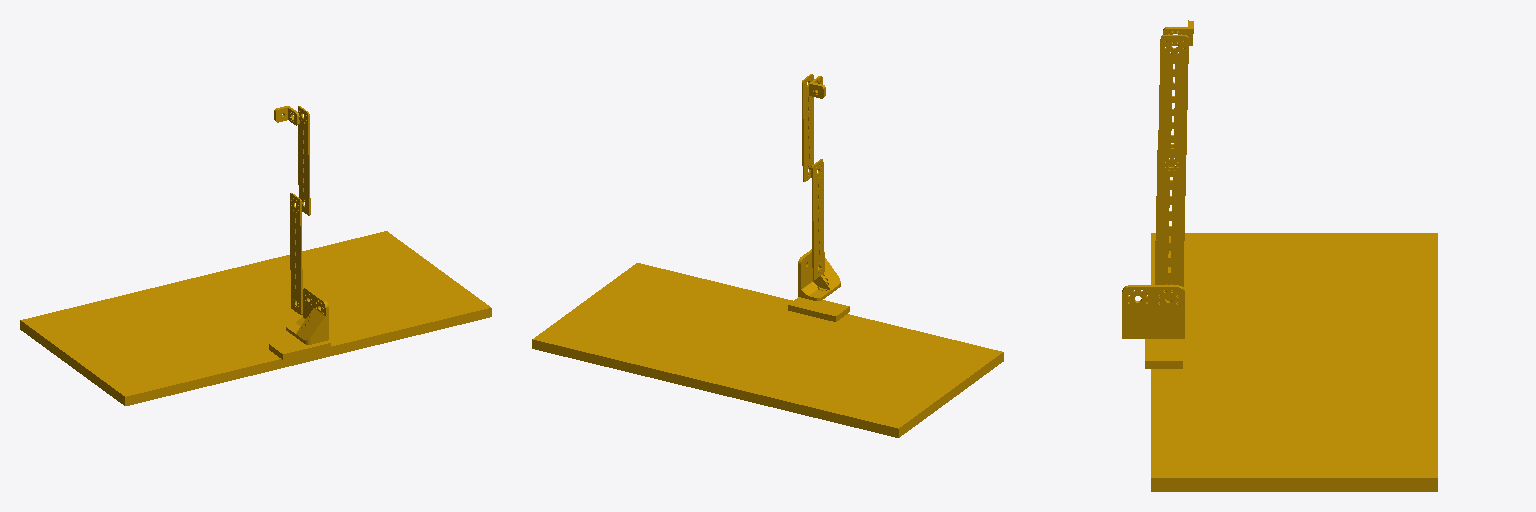
robot.urdf — fourdof:
<?xml version="1.0"?>

<robot name="fourdof">

  <!-- ******************************************************** -->
  <!-- ******************* Kinematic Chain ******************** -->
  <!-- ******************************************************** -->
  <!-- Note the 'origin' tag in the joints defines the shift and
       reorientation, i.e. the transform.  For moving joints, this
       happens before the continuous joint rotates around 'axis'. -->

  <!-- World can't take a visual element (at least in Gazebo). -->
  <link name="world"/>

  <joint name="tableplacement" type="fixed">
    <parent link="world"/>
    <child  link="table"/>
    <origin xyz="0 0 0" rpy="0 0 0"/>
  </joint>

  <link name="table">
    <visual>
      <origin xyz="0.0 0.0 0.0" rpy="-1.5708 0 0"/>
      <geometry>
        <mesh filename="package://snakes_and_ladders/meshes/Table.STL"
	      scale="0.001 0.001 0.001"/>
      </geometry>
      <material name="wood"/>
    </visual>
  </link>

  <joint name="placement" type="fixed">
    <parent link="table"/>
    <child  link="baseplate"/>
    <origin xyz="0.748 0.01 0.0" rpy="0 0 0"/>			<!-- WHERE IS THE BASE .748 -->
  </joint>

  <!-- BASE PLATE: Shift across the base plate to the base motor. --> 
  <link name="baseplate">
    <visual>
      <origin xyz="0.0 0.025 0.0125" rpy="0 0 0"/>
      <geometry>
	<box size="0.2 0.1 0.0230"/>
      </geometry>
      <material name="wood"/>
    </visual>
  </link>

  <joint name="baseplate" type="fixed">
    <parent link="baseplate"/>
    <child  link="basemotor"/>
    <origin xyz="0 0 0.0230" rpy="0 0 0"/>
  </joint>

  <!-- BASE MOTOR: Thickness: X5 = 31.1mm, X8 = 45.1mm -->
  <link name="basemotor">
    <visual>
      <origin xyz="0.0 0.0 0.0" rpy="0 0 -1.5708"/>
      <geometry>
        <mesh filename="package://snakes_and_ladders/meshes/X8.stl"
	      scale="0.001 0.001 0.001"/>
      </geometry>
      <material name="hebi"/>
    </visual>
  </link>

  <joint name="base" type="continuous">
    <parent link="basemotor"/>
    <child  link="lbracket"/>
    <origin xyz="0 0 0.0451" rpy="0 0 -1.5708"/>  <!--0.035, 0.03321-->
    <axis   xyz="0 0 1"/>
  </joint>

  <!-- L BRACKET: Shift and rotate across the L bracket. -->
  <link name="lbracket">
    <visual>
      <origin xyz = ".085 .0550 0" rpy="1.5708 0 -1.5708"/>
      <geometry>
        <mesh filename="package://snakes_and_ladders/meshes/lower_bracket_improved_1005.STL"
        scale = "0.001 0.001 0.001"/>
      </geometry>
      <material name = "wood"/>
    </visual>
  </link>

  <joint name="lbracket" type="fixed">
    <parent link="lbracket"/>
    <child  link="shouldermotor"/>
    <origin xyz="-0.038 0.02 0.113" rpy="0 -1.5708 1.5708"/>	  <!-- L BRACKET DIMENIONS -1.5708 0.0445 -0.017 0.1025 -->
  </joint>

  <!-- SHOULDER MOTOR: Thickness: X5 = 31.1mm, X8 = 45.1mm -0.0065 -->
  <link name="shouldermotor">
    <visual>
      <origin xyz="0 0 -0.02250" rpy="0 0 0"/>
      <geometry>
        <mesh filename="package://snakes_and_ladders/meshes/X8.stl"
	      scale="0.001 0.001 0.001"/>
      </geometry>
      <material name="hebi"/>
    </visual>
  </link>

  <joint name="shoulder" type="continuous">
    <parent link="shouldermotor"/>
    <child  link="upperarm"/>
    <origin xyz="0 0 0.03225" rpy="-3.14159 0 0.02"/>
    <axis   xyz="0 0 -1"/>
  </joint>

  <!-- UPPER ARM: Shift across the upper arm (1/4in thickness) -->
  <link name="upperarm">
    <visual>
      <origin xyz="-0.034767 0.037869 0.00285" rpy="1.5708 0 0"/>  <!-- 0.25 0 0.00285 -->
      <geometry>
	      <mesh filename="package://snakes_and_ladders/meshes/Upperarm_improved.STL"
            scale="0.001 0.001 0.001"/>
      </geometry>
      <material name="wood"/>
    </visual>
    <!-- Add a visual element -->
  </link>

  <joint name="upperarm" type="fixed">
    <parent link="upperarm"/>
    <child  link="elbowmotor"/>
    <origin xyz="0.3850 -0.0025 0.0251" rpy="0 0 0"/>		  <!-- "0.3850 -0.0025 0.0057"-->
  </joint>

  <!-- Elbow motor.  Thickness: X5 = 31.1mm, X8 = 45.1mm -->
  <link name="elbowmotor">
    <visual>
      <origin xyz="-0.002 0.002 -0.0161" rpy="0 0 0"/>
      <geometry>
        <mesh filename="package://snakes_and_ladders/meshes/X5.stl"
	      scale="0.001 0.001 0.001"/>
      </geometry>
      <material name="hebi"/>
    </visual>
  </link>

  <joint name="elbow" type="continuous">
    <parent link="elbowmotor"/>
    <child  link="lowerarm"/>
    <origin xyz="0 0 0.01655" rpy="0 0 0"/>
    <axis   xyz="0 0 1"/>
  </joint>

  <!-- Shift across the upper arm (1/4in thickness) -->
  <link name="lowerarm">
    <visual>
      <origin xyz="-0.036768 0.039268 -0.00175" rpy="1.5708 0 0"/>
      <geometry>
        <mesh filename="package://snakes_and_ladders/meshes/lowerarm_improved.STL"
            scale="0.001 0.001 0.001"/>
      </geometry>
      <material name="wood"/>
    </visual>
  </link>

  <joint name="wrist_rot" type="fixed">
    <parent link="lowerarm"/>
    <child  link="wristmotor"/>
    <origin xyz="0.350 0  -0.01655" rpy="0 0 -3.14"/>		  <!-- LOWER ARM DIMENIONS 0.00285 -->
  </joint>

  <!-- Wrist motor.  Thickness: X5 = 31.1mm, X8 = 45.1mm -->
  <link name="wristmotor">
    <visual>
      <origin xyz="0.002 -0.002 0.01455" rpy="-3.14 0 0"/>
      <geometry>
        <mesh filename="package://snakes_and_ladders/meshes/X5.stl"
	      scale="0.001 0.001 0.001"/>
      </geometry>
      <material name="hebi"/>
    </visual>
  </link>

  <joint name="wrist" type="continuous">
    <parent link="wristmotor"/>
    <child  link="lowerbracket"/>
    <origin xyz="0 0 -0.0321" rpy="3.14 1.5708 0"/>
    <axis   xyz="1 0 0"/>
  </joint>

  <!-- Lower L Bracket -->
  <link name="lowerbracket">
    <visual>
      <origin xyz="-0.015 -0.0475 -0.025" rpy="0 0 0"/>
      <geometry>
        <mesh filename="package://snakes_and_ladders/meshes/l_bracket_gripper.STL"
            scale="0.001 0.001 0.001"/>
      </geometry>
      <material name="wood"/>
    </visual>
  </link>

  <joint name="gripper" type="fixed">
    <parent link="lowerbracket"/>
    <child  link="gripper"/>
    <origin xyz="-0.0075 -0.0175 -0.055" rpy="-1.5708 -1.5708 -1.5708"/>		 
  </joint>


  <link name="gripper">
    <visual>
      <origin xyz="0.033 0.01 0.077" rpy="0 1.5708 0"/>
      <geometry>
        <mesh filename="package://snakes_and_ladders/meshes/Gripper_Part.STL"
            scale="0.001 0.001 0.001"/>
      </geometry>
      <material name="wood"/>
    </visual>
  </link>

  <joint name="revolve" type="fixed">
    <parent link="gripper"/>
    <child  link="tip"/>
    <origin xyz="0.05 0.15 0.025" rpy="0 0 0"/>		 
  </joint>
  
  <!-- TIP FRAME -->
  <link name="tip"/>

  <!-- *************************************************** -->
  <!-- *************** Visual Link Elements ************** -->
  <!-- *************************************************** -->
  <!-- Note collada .dae files have better color/texture   -->
  <!-- suppport that STL files.                            -->

  <!-- Colors -->
  <material name="wood">  <color rgba="0.82 0.62 0.04 1"/>  </material>
  <material name="hebi">  <color rgba="0.82 0.06 0.06 1"/>  </material>

</robot>

--- Facts derived from the render (not from the file) ---
The picture shows the robot from 3 angles, left to right: view 1: azimuth 30°, elevation 25°; view 2: azimuth 150°, elevation 25°; view 3: azimuth 270°, elevation 25°; orthographic projection.
Robot: fourdof — 13 links, 12 joints (4 continuous, 8 fixed); root link world; default pose: every joint at zero.
Links seen in each view (by area): view 1: table, lbracket, upperarm, lowerarm, baseplate; view 2: table, upperarm, lbracket, lowerarm, baseplate; view 3: table, lowerarm, lbracket, upperarm, baseplate.
Link boxes in pixels (x1=…): table: x1=20, y1=231, x2=491, y2=405; lbracket: x1=286, y1=288, x2=328, y2=344; upperarm: x1=290, y1=193, x2=302, y2=314; lowerarm: x1=298, y1=106, x2=310, y2=215; baseplate: x1=269, y1=338, x2=330, y2=359; table: x1=532, y1=263, x2=1003, y2=437; upperarm: x1=811, y1=159, x2=824, y2=279; lbracket: x1=798, y1=249, x2=840, y2=300; lowerarm: x1=802, y1=74, x2=813, y2=181; baseplate: x1=788, y1=297, x2=849, y2=321; table: x1=1151, y1=233, x2=1437, y2=491; lowerarm: x1=1158, y1=35, x2=1188, y2=176; lbracket: x1=1122, y1=285, x2=1184, y2=338; upperarm: x1=1155, y1=144, x2=1185, y2=301; baseplate: x1=1145, y1=339, x2=1182, y2=368.
Bounding box of the posed robot: 1.52 × 0.8307 × 0.9794 m (x, y, z).
Meshes: 8 distinct files referenced, 5 mesh visuals loaded (5 binary STL); not drawn: 5 (reference not matched to a file when rendering).